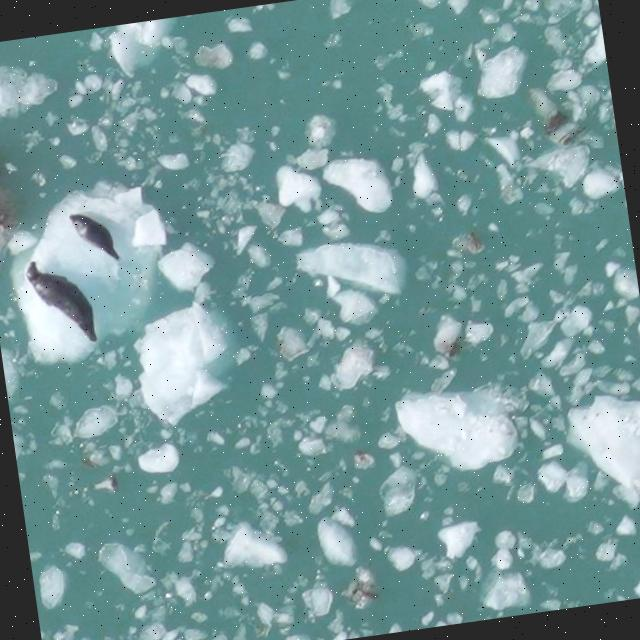seal: (14, 251, 115, 345), (60, 210, 130, 263)
